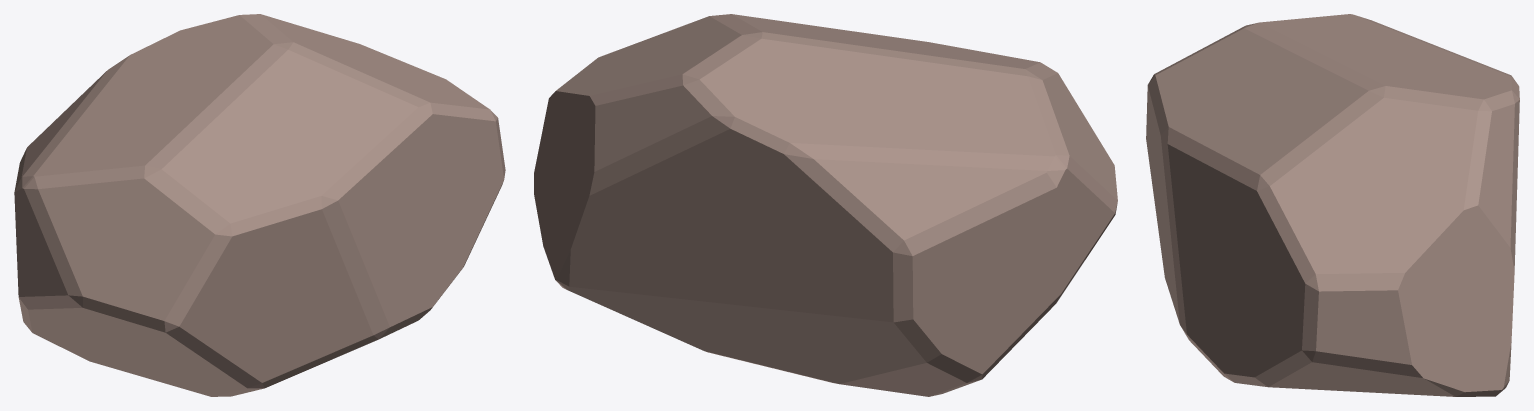
Rendered from MiddleRock.fbx.
The picture shows the model from 3 angles, left to right: view 1: azimuth 30°, elevation 25°; view 2: azimuth 150°, elevation 25°; view 3: azimuth 270°, elevation 25°; orthographic projection. The views are drawn at different scales.
Parts seen in each view (by area): view 1: BigRoks_2.001; view 2: BigRoks_2.001; view 3: BigRoks_2.001.
Boxes of the visible parts, box(x1,y1,x2,y2) form: BigRoks_2.001: box(14, 14, 505, 396); BigRoks_2.001: box(534, 14, 1117, 396); BigRoks_2.001: box(1146, 14, 1519, 396).
Bounding box in the file's own units: 308 × 184 × 200.
